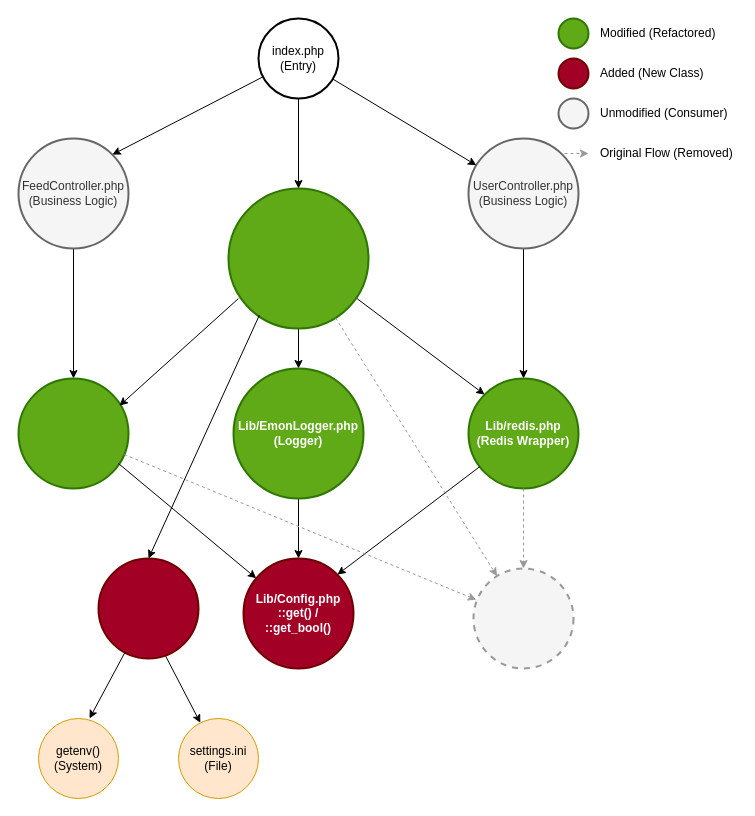
Image size: 755x816. Some labels were removed from this diagram. Here are the shapes that lost their labels. From the top down, the box of each, then its label:
(227, 187, 369, 329): Lib/load_emoncms.php (Bootstrap)
(17, 377, 129, 489): Lib/mysqli.php (DB Wrapper)
(97, 557, 199, 659): Lib/Config.php ::load()
(472, 567, 574, 669): Global $settings (Legacy)
